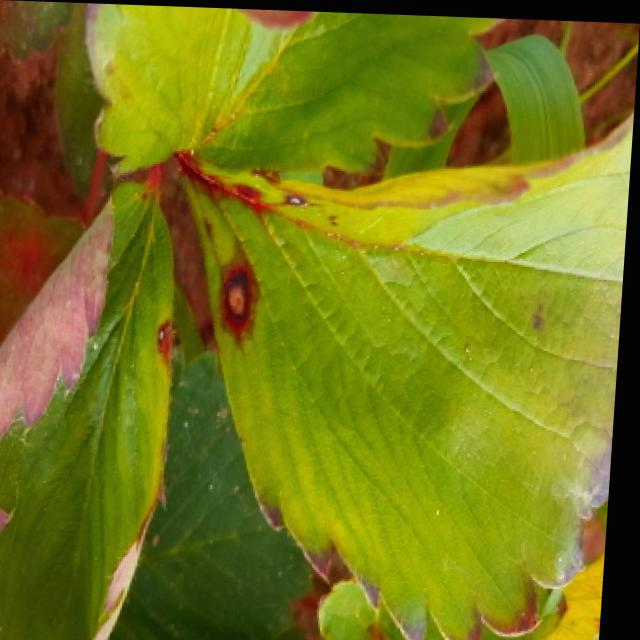Leaf Spot: (164, 97, 636, 640), (0, 172, 183, 640)
